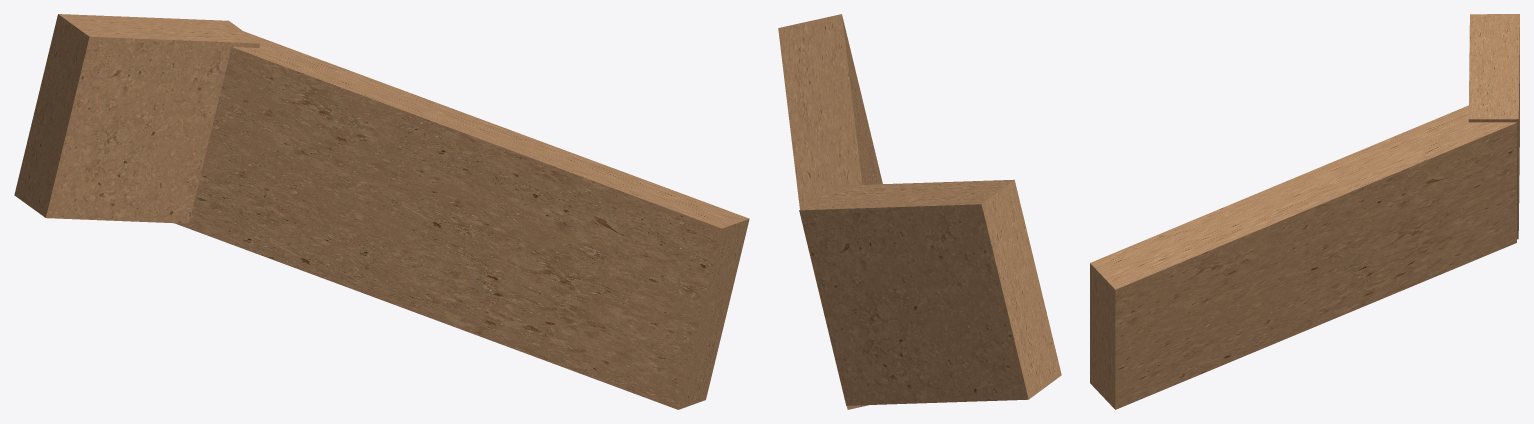
The model's file is Obstacle-flipper1.gltf.
3 views of the same model, side by side, from view 1: azimuth 30°, elevation 25°; view 2: azimuth 150°, elevation 25°; view 3: azimuth 270°, elevation 25° (orthographic). The views are drawn at different scales.
Visible parts, largest first — view 1: Cube_7_6_Mat.6_0, Cube_3_2_Mat.6_0; view 2: Cube_3_2_Mat.6_0, Cube_7_6_Mat.6_0; view 3: Cube_7_6_Mat.6_0, Cube_3_2_Mat.6_0.
Part boxes in pixels (x1,y1,x2,y2): Cube_7_6_Mat.6_0: [175, 31, 749, 409]; Cube_3_2_Mat.6_0: [14, 14, 260, 223]; Cube_3_2_Mat.6_0: [799, 179, 1061, 405]; Cube_7_6_Mat.6_0: [778, 14, 882, 409]; Cube_7_6_Mat.6_0: [1090, 105, 1516, 409]; Cube_3_2_Mat.6_0: [1468, 14, 1519, 239].
Bounding box in the file's own units: 0.5786 × 0.3413 × 0.5534.
Materials: 1 (1 with a texture image).
